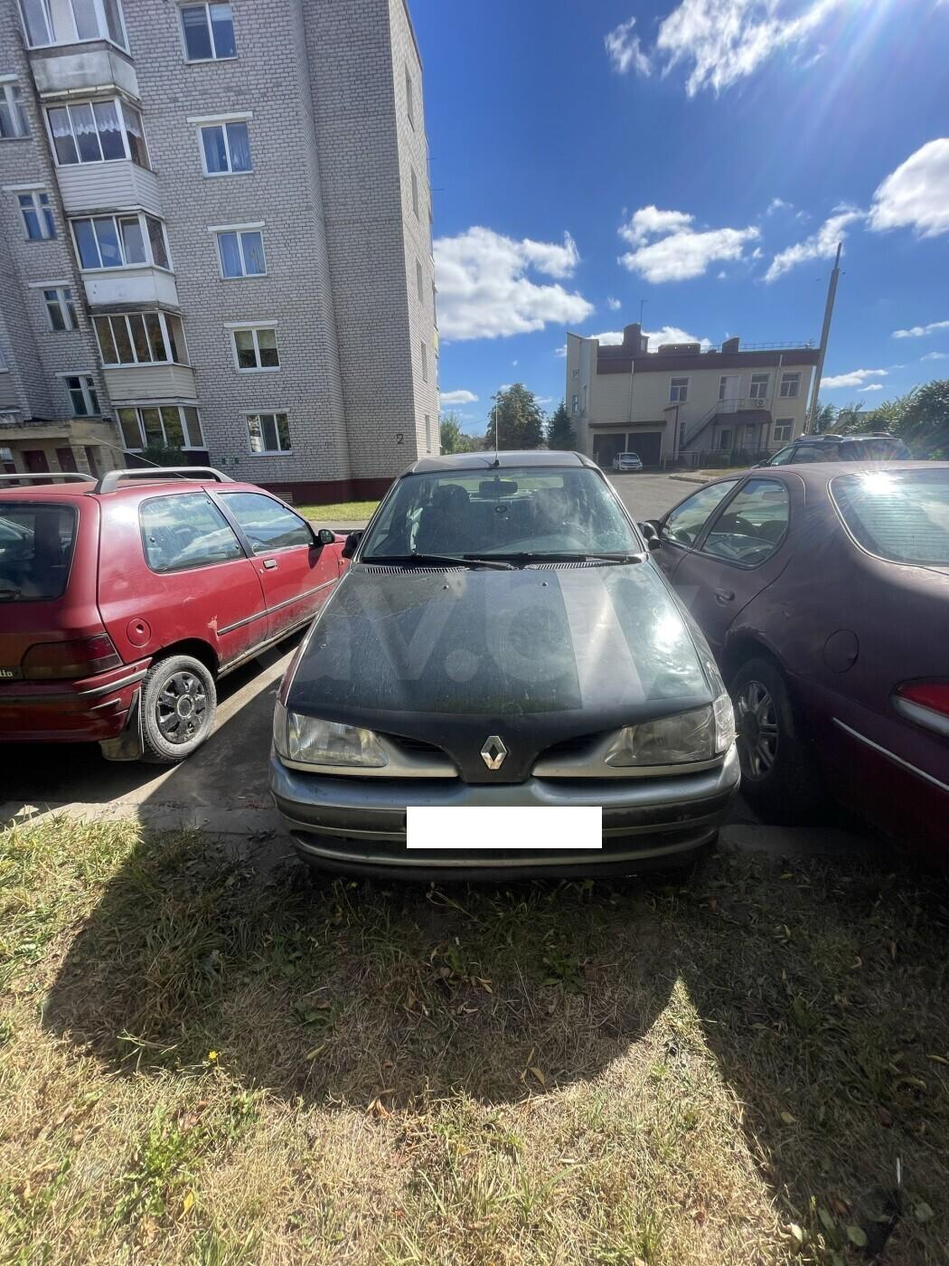Megane_1995-1999: (266, 449, 745, 912)
